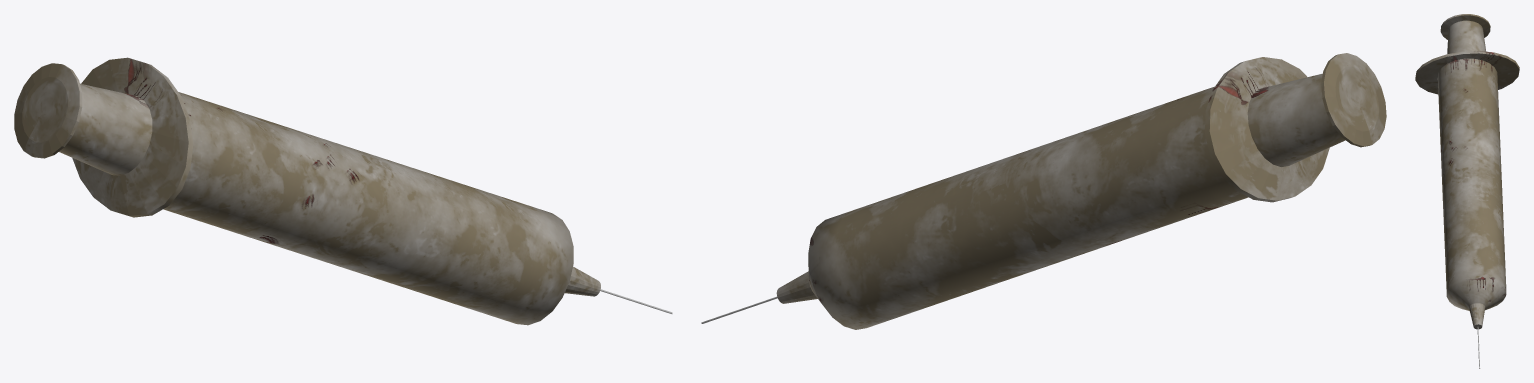
Rendered from SyringeFBX.fbx.
The picture shows the model from 3 angles, left to right: view 1: azimuth 30°, elevation 25°; view 2: azimuth 150°, elevation 25°; view 3: azimuth 270°, elevation 25°; orthographic projection. The views are drawn at different scales.
Parts seen in each view (by area): view 1: pCylinder1; view 2: pCylinder1; view 3: pCylinder1.
Part boxes in pixels (<box>): pCylinder1: <box>14,57,672,325</box>; pCylinder1: <box>701,53,1386,329</box>; pCylinder1: <box>1415,14,1519,368</box>.
Bounding box in the file's own units: 2.93 × 1.73 × 0.8026.
